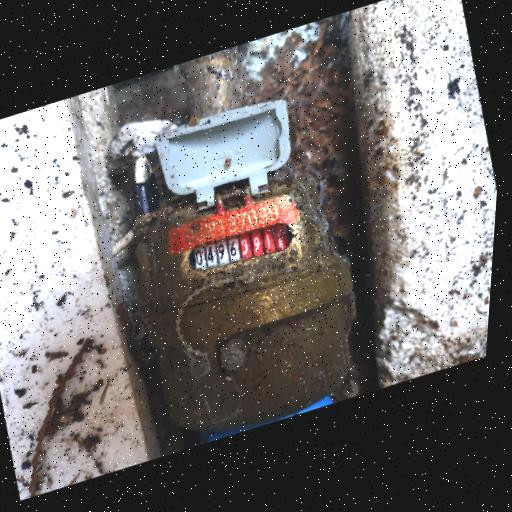0: (192, 244, 210, 271)
1: (260, 224, 278, 254)
3: (236, 231, 254, 261)
4: (203, 242, 221, 270)
6: (226, 237, 244, 264)
9: (248, 227, 266, 257), (213, 239, 232, 267)
border_water_meter_number: (183, 215, 298, 280)
